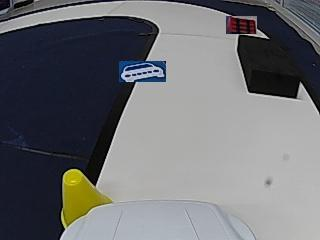block: (237, 35, 301, 97)
cone: (63, 169, 111, 205)
